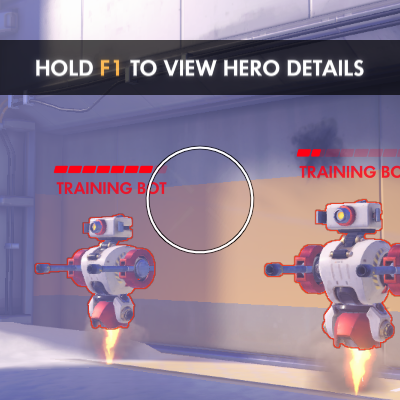hpbar: (296, 148, 400, 158), (54, 165, 167, 174)
